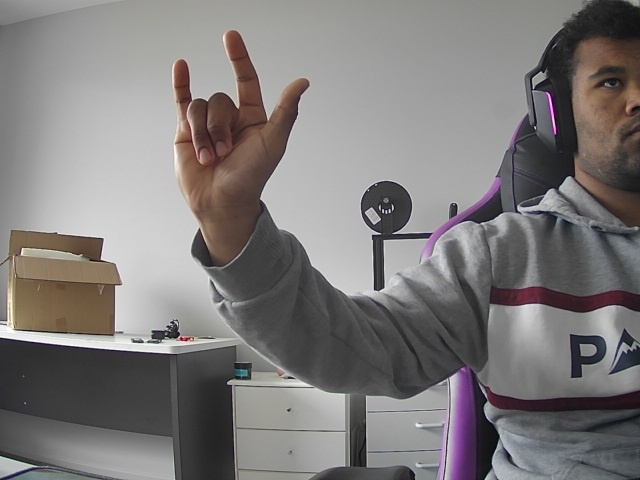ILoveYou: (153, 18, 320, 248)
